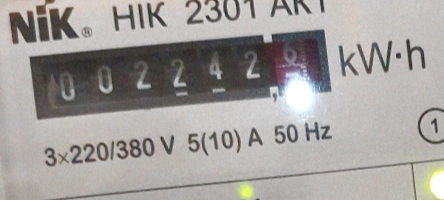0: (53, 69, 77, 105), (91, 63, 113, 97)
2: (165, 55, 187, 91), (129, 59, 151, 93), (239, 49, 260, 82)
4: (203, 49, 223, 84)
6: (278, 39, 297, 67)
screen: (15, 12, 341, 138)
